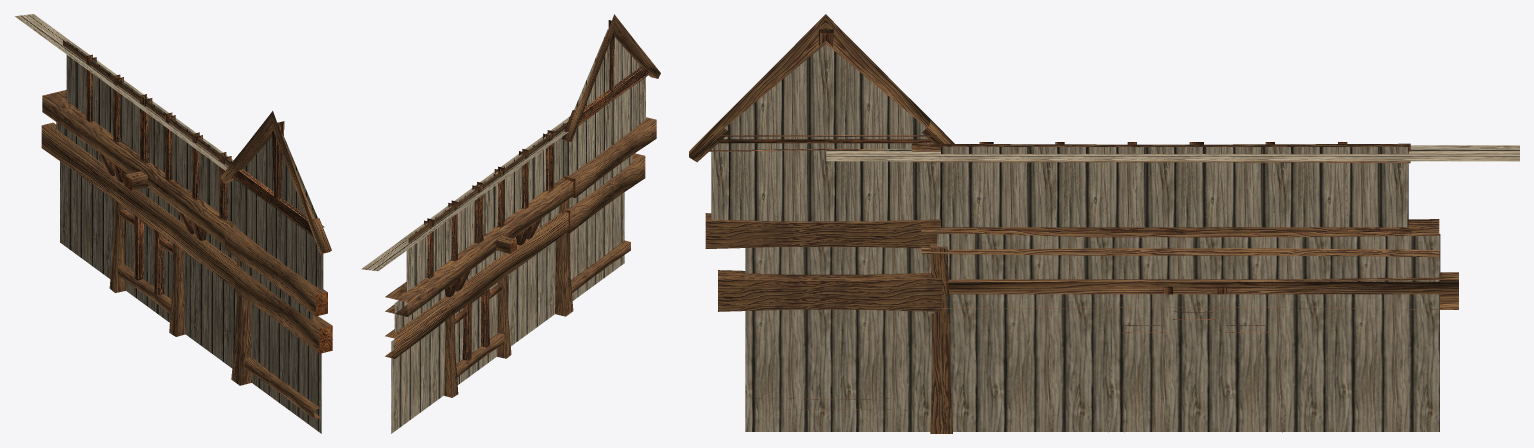
Rendered from LAKETOWN_EXTERIOR_PS_LT_ENTRANCEWALL978__GX.obj.
The picture shows the model from 3 angles, left to right: view 1: azimuth 30°, elevation 25°; view 2: azimuth 150°, elevation 25°; view 3: azimuth 270°, elevation 25°; orthographic projection. The views are drawn at different scales.
Visible parts, largest first — view 1: anceWall978__GX; view 2: anceWall978__GX; view 3: anceWall978__GX.
Part boxes in pixels (x1,y1,x2,y2): anceWall978__GX: (15, 14, 332, 433); anceWall978__GX: (361, 14, 660, 433); anceWall978__GX: (689, 14, 1519, 433).
Size of the model in its own units: 107 by 747 by 1382.
